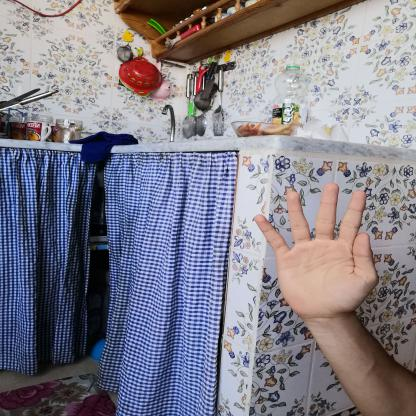SHEEN: (240, 172, 391, 325)
